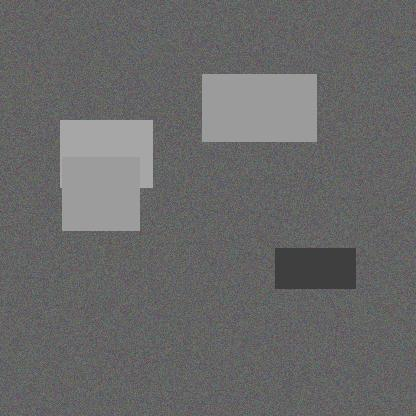empty: (103, 247, 186, 313), (69, 231, 151, 279), (295, 184, 343, 230)
occupied: (183, 232, 230, 277)
